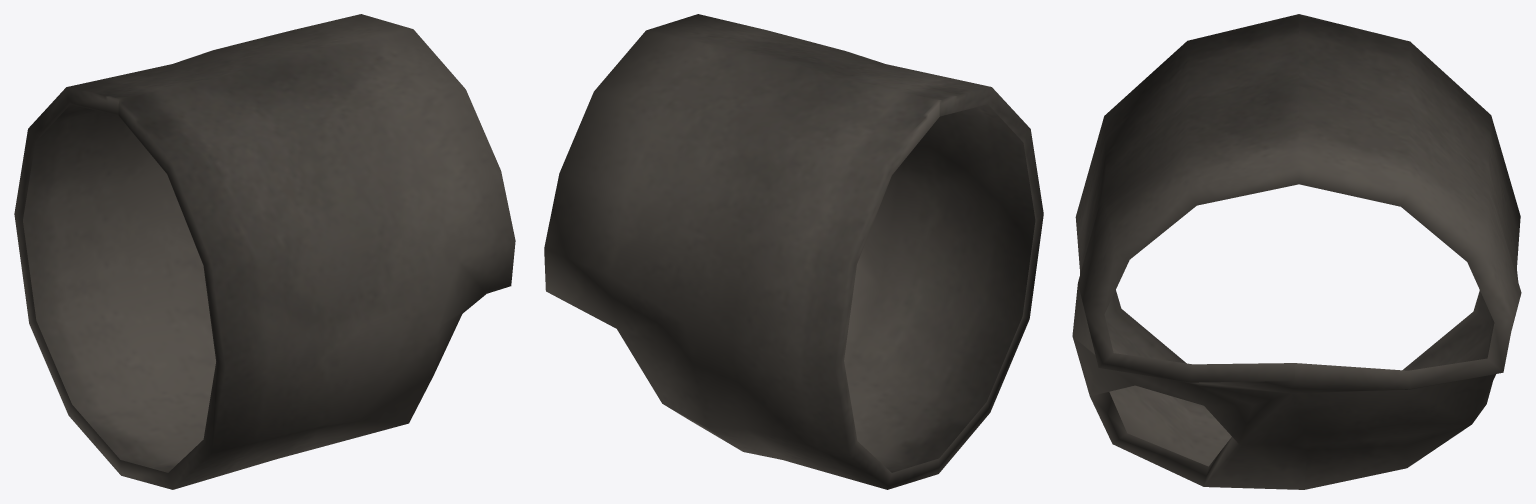
File: fingerless_glove_left.gltf
The picture shows the model from 3 angles, left to right: view 1: azimuth 30°, elevation 25°; view 2: azimuth 150°, elevation 25°; view 3: azimuth 270°, elevation 25°; orthographic projection. The views are drawn at different scales.
Visible parts, largest first — view 1: Fingerless_Glove_Left; view 2: Fingerless_Glove_Left; view 3: Fingerless_Glove_Left.
Boxes of the visible parts, bbox=[...] form: Fingerless_Glove_Left: bbox=[14, 14, 515, 489]; Fingerless_Glove_Left: bbox=[544, 14, 1043, 489]; Fingerless_Glove_Left: bbox=[1072, 14, 1521, 489].
Bounding box in the file's own units: 0.2035 × 0.2423 × 0.2475.
